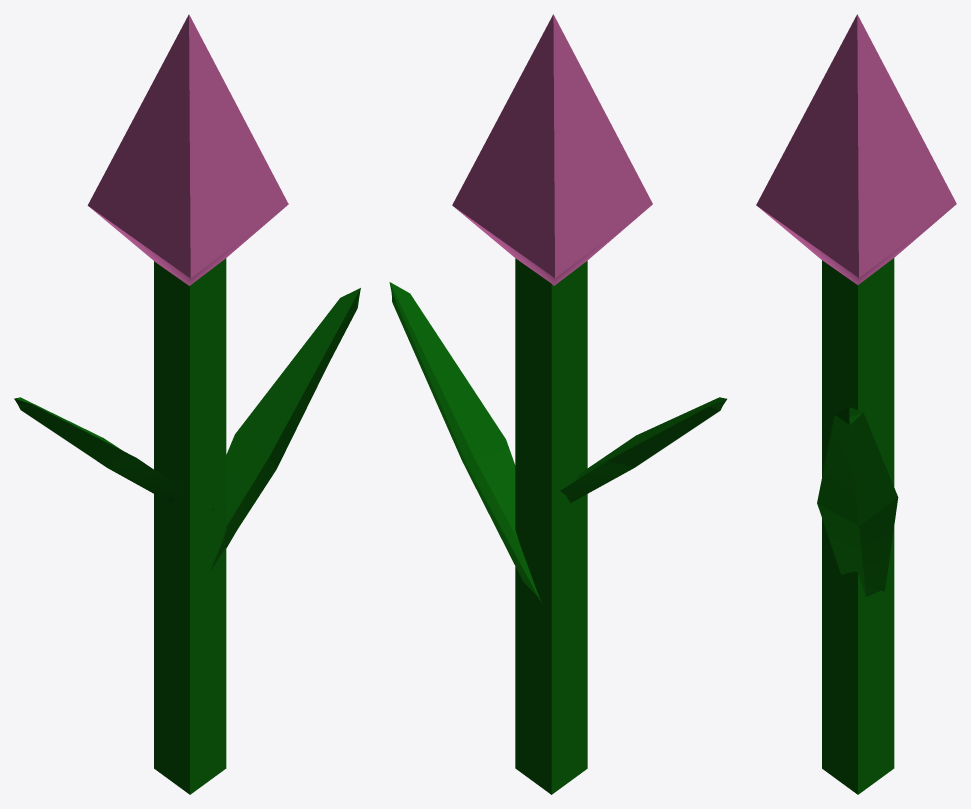
File: Tulip1.fbx
The picture shows the model from 3 angles, left to right: view 1: azimuth 30°, elevation 25°; view 2: azimuth 150°, elevation 25°; view 3: azimuth 270°, elevation 25°; orthographic projection.
Parts seen in each view (by area): view 1: Tulip1; view 2: Tulip1; view 3: Tulip1.
Part boxes in pixels (x1,y1,x2,y2): Tulip1: (14,14,360,794); Tulip1: (389,14,726,794); Tulip1: (756,14,956,794).
Bounding box in the file's own units: 2.84 × 6.04 × 1.44.
